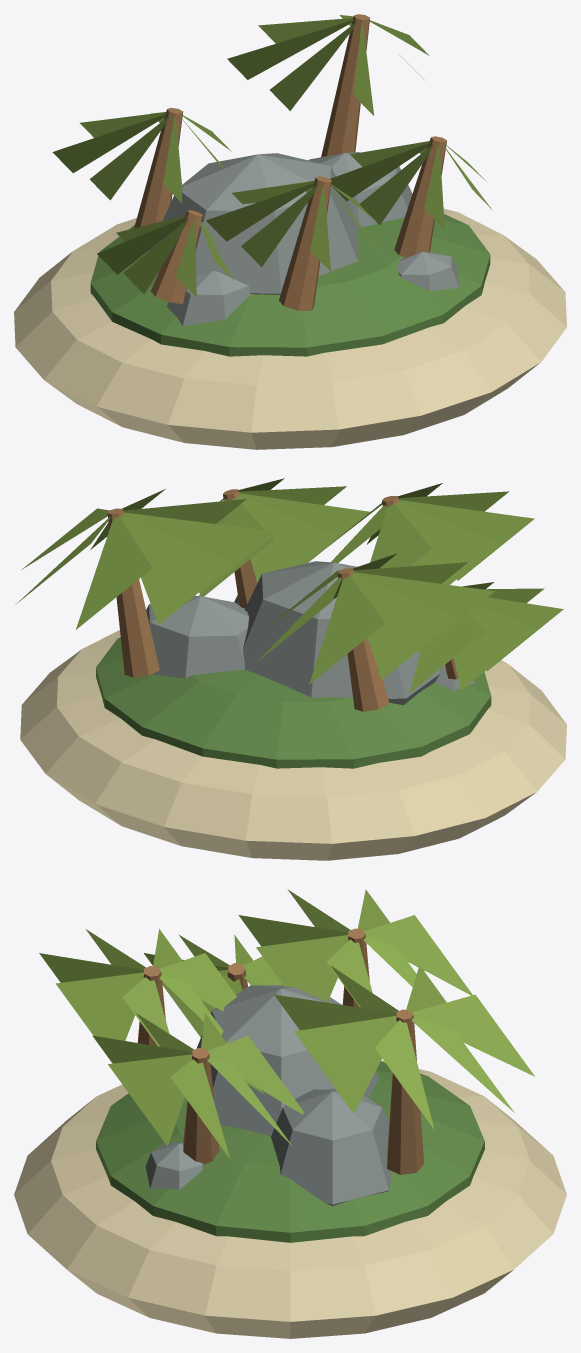
Rendered from island_tropical_medium.glb.
3 views of the same model, one above another, from view 1: azimuth 30°, elevation 25°; view 2: azimuth 150°, elevation 25°; view 3: azimuth 270°, elevation 25° (orthographic). The views are drawn at different scales.
Visible parts, largest first — view 1: island_tropical; view 2: island_tropical; view 3: island_tropical.
Boxes of the visible parts, x1,y1,x2,y2 form: island_tropical: [14, 14, 566, 449]; island_tropical: [15, 478, 566, 860]; island_tropical: [14, 889, 566, 1338].
Size of the model in its own units: 2 by 1.16 by 1.84.
